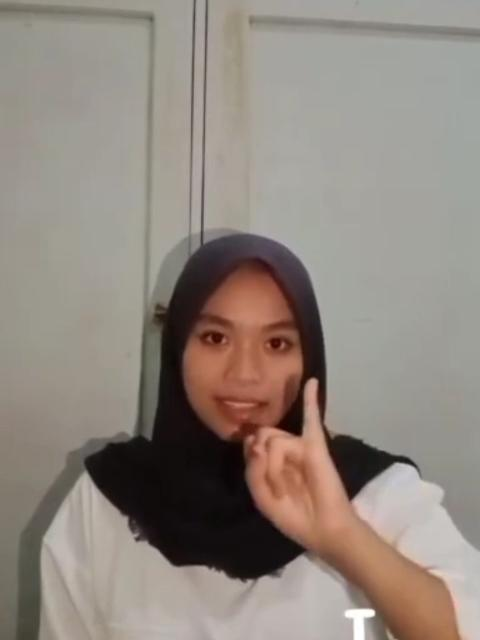I: (241, 374, 355, 546)
